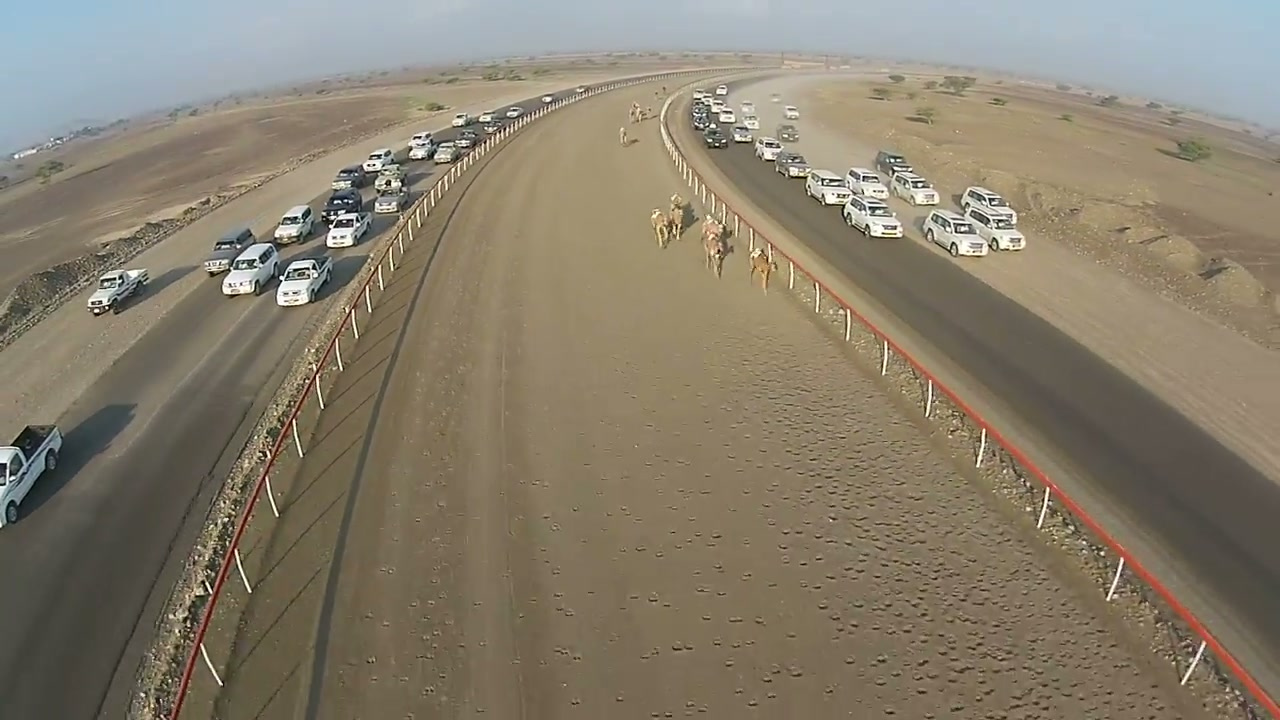animal_footprint: (693, 280, 1191, 719)
